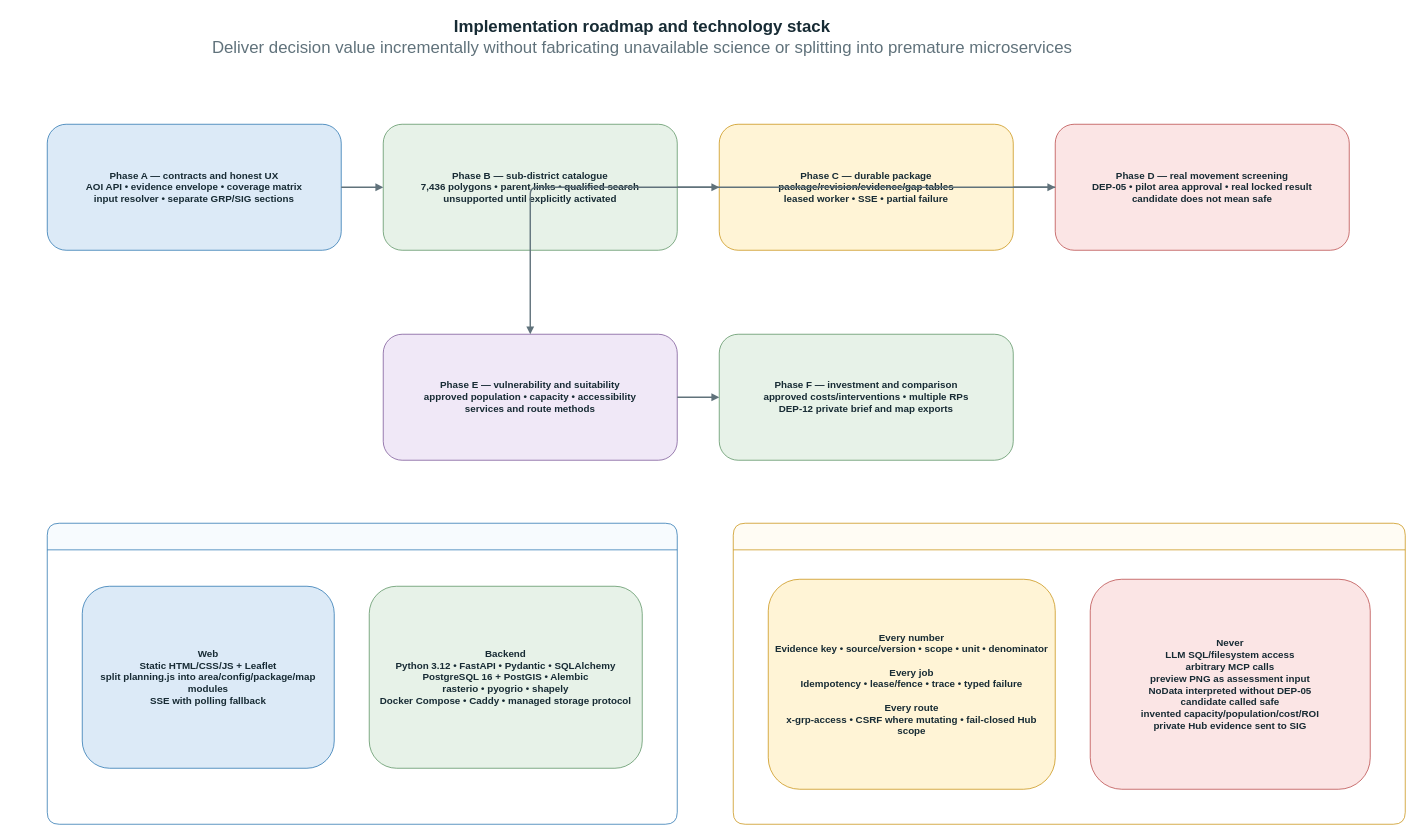
This 1418x837 diagram has some shape labels left out. The shapes that lost their labels are listed below. From the top down, each one's box as (x1, y1, x2, y2) in pixels, then its label:
(47, 523, 677, 824): Current and recommended technology
(733, 523, 1405, 824): Definition of done / non-negotiable controls
